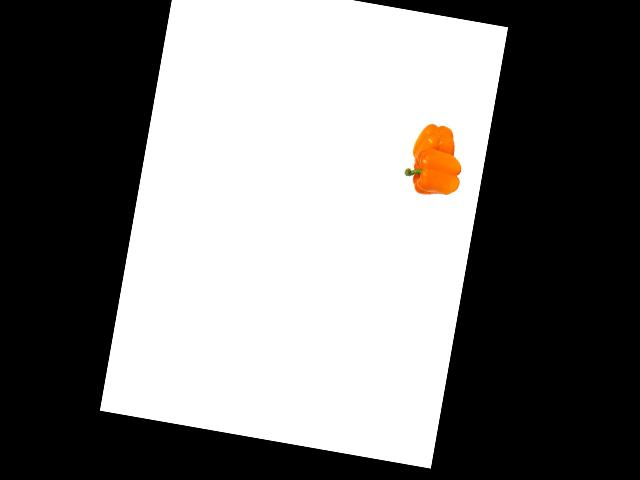bell_pepper: (409, 118, 464, 169)
